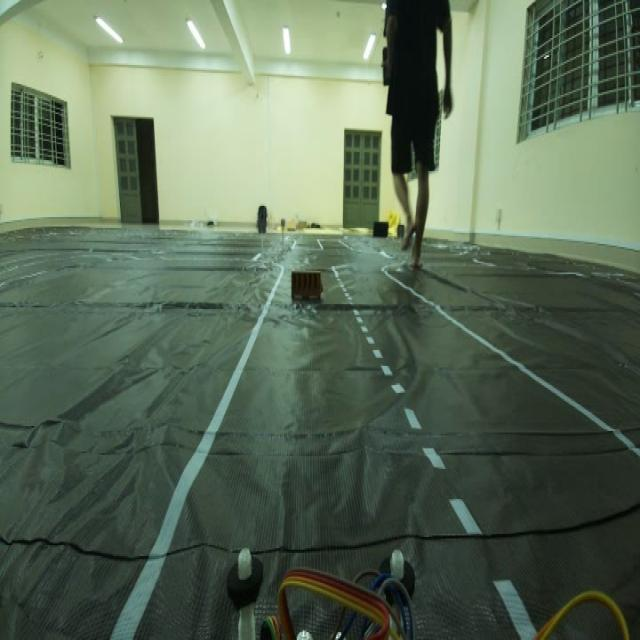roadblock: (289, 261, 327, 309)
